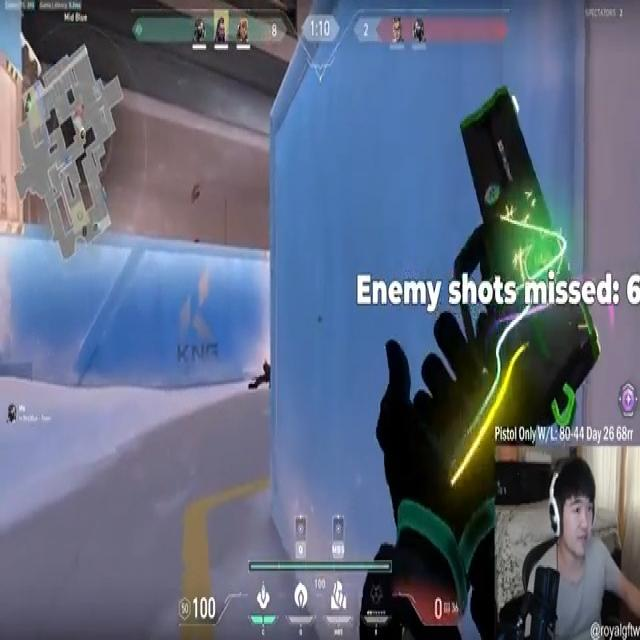gun: (446, 85, 596, 458)
